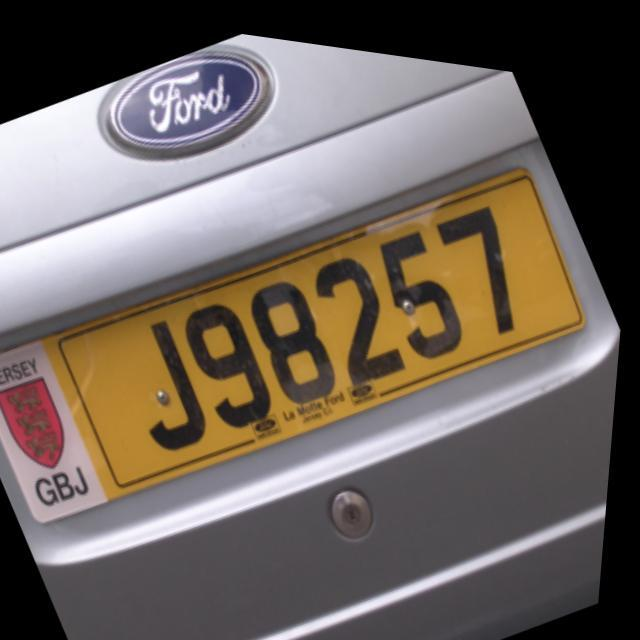license_plate: (0, 81, 605, 586)
